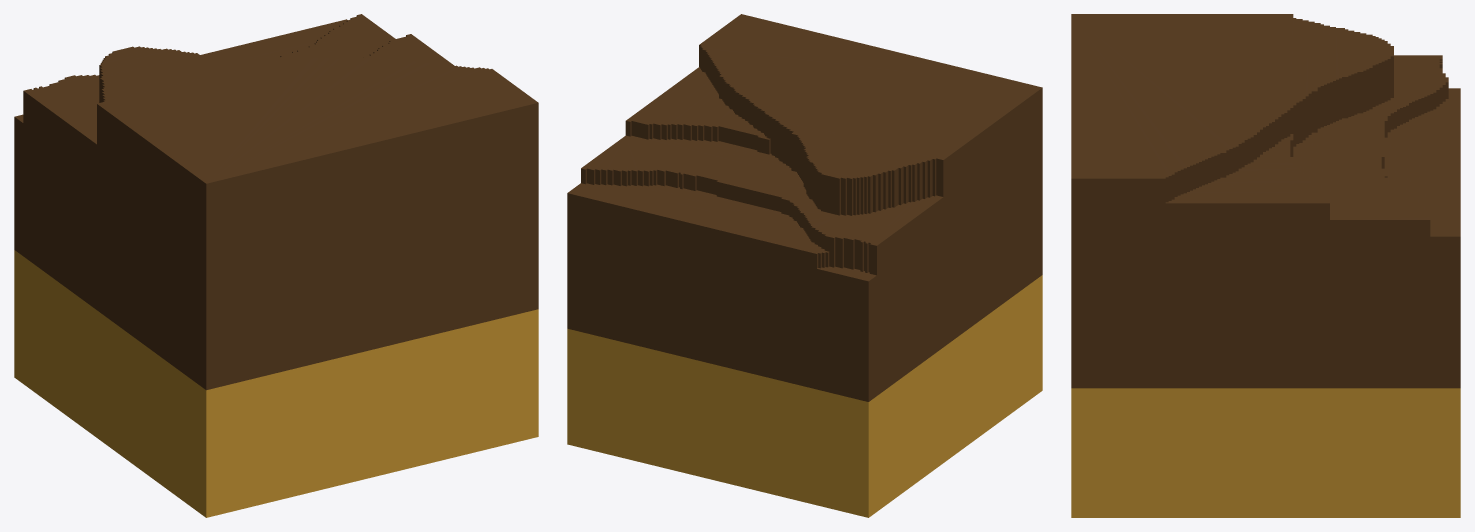
3 renders of one model, left to right at view 1: azimuth 30°, elevation 25°; view 2: azimuth 150°, elevation 25°; view 3: azimuth 270°, elevation 25°, orthographic. The views are drawn at different scales.
Parts seen in each view (by area): view 1: 6O; view 2: 6O; view 3: 6O.
Boxes of the visible parts, x1,y1,x2,y2 form: 6O: (14, 14, 538, 517); 6O: (567, 14, 1042, 517); 6O: (1071, 14, 1460, 517).
Bounding box in the file's own units: 12.8 × 12.3 × 12.8.
1 material, 1 textured.
